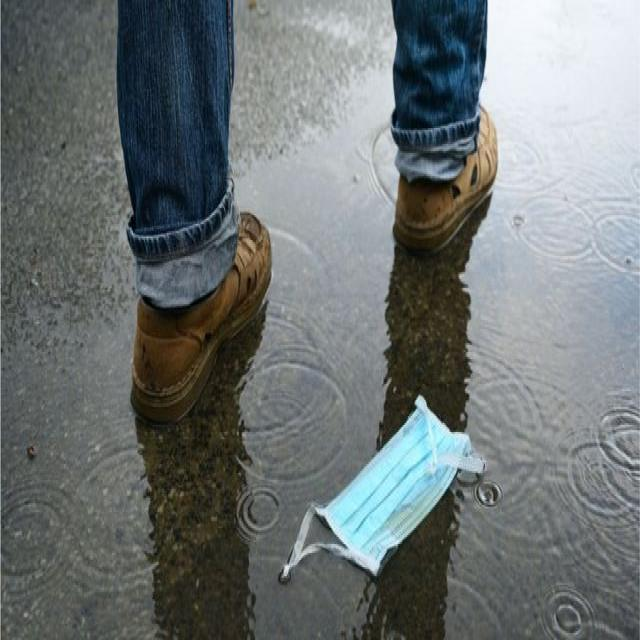face mask: (288, 396, 476, 584)
